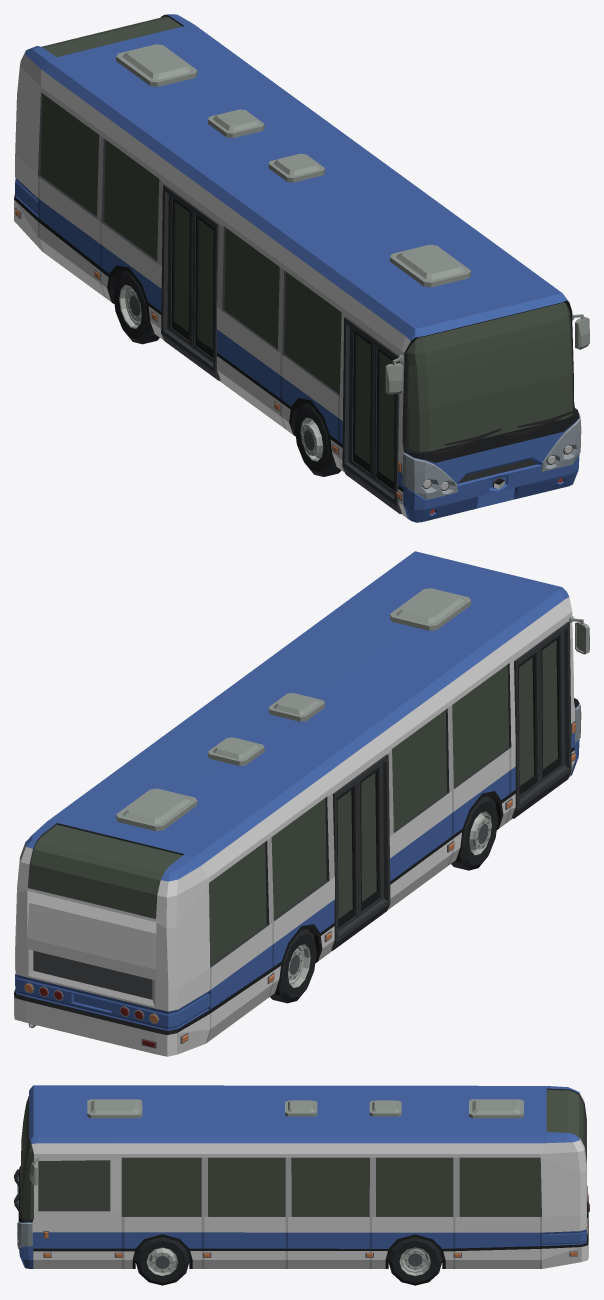
The model's file is TourBus.obj.
The picture shows the model from 3 angles, top to bottom: view 1: azimuth 30°, elevation 25°; view 2: azimuth 150°, elevation 25°; view 3: azimuth 270°, elevation 25°; orthographic projection. The views are drawn at different scales.
Bounding box in the file's own units: 3.23 × 3.34 × 11.4.
1 material, 1 textured.
